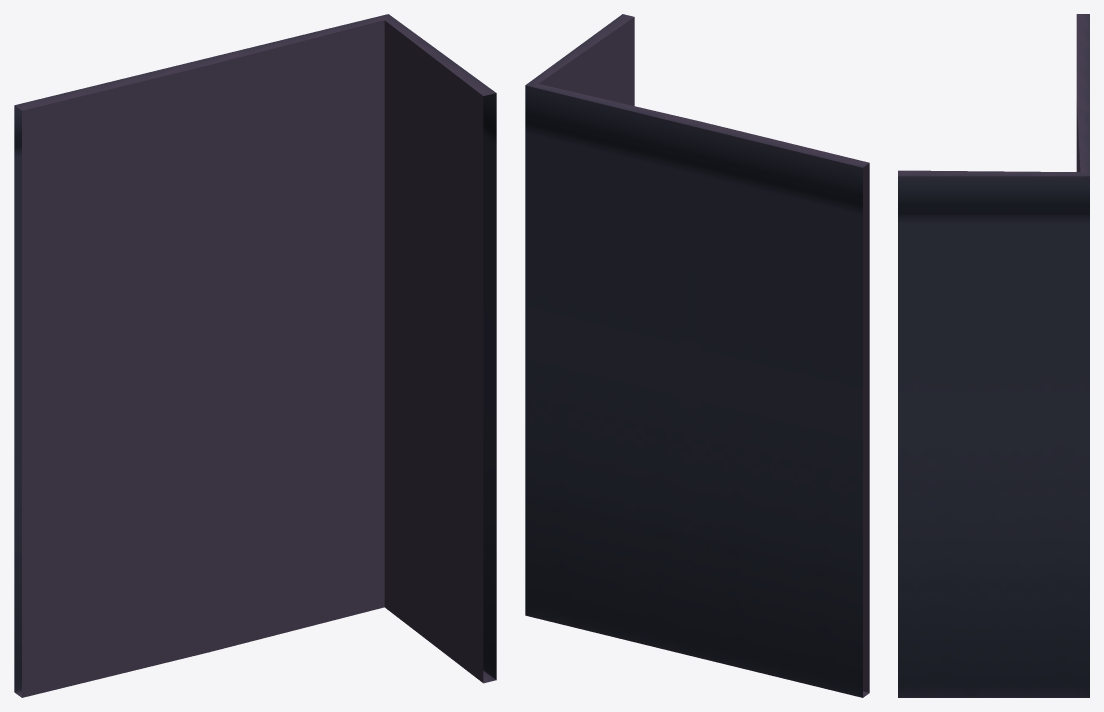
File: WC Walls 1.fbx
3 views of the same model, side by side, from view 1: azimuth 30°, elevation 25°; view 2: azimuth 150°, elevation 25°; view 3: azimuth 270°, elevation 25° (orthographic). The views are drawn at different scales.
Parts seen in each view (by area): view 1: WC Walls 1; view 2: WC Walls 1; view 3: WC Walls 1.
Part boxes in pixels (box(x1,y1,x2,y2)): WC Walls 1: box(14, 14, 496, 697); WC Walls 1: box(525, 14, 869, 697); WC Walls 1: box(898, 14, 1089, 697).
Size of the model in its own units: 200 by 300 by 100.
1 material, 1 textured.
